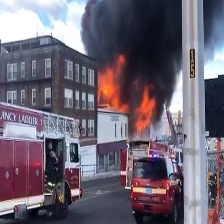fire: (97, 65, 159, 134)
smoke: (78, 2, 224, 60)
